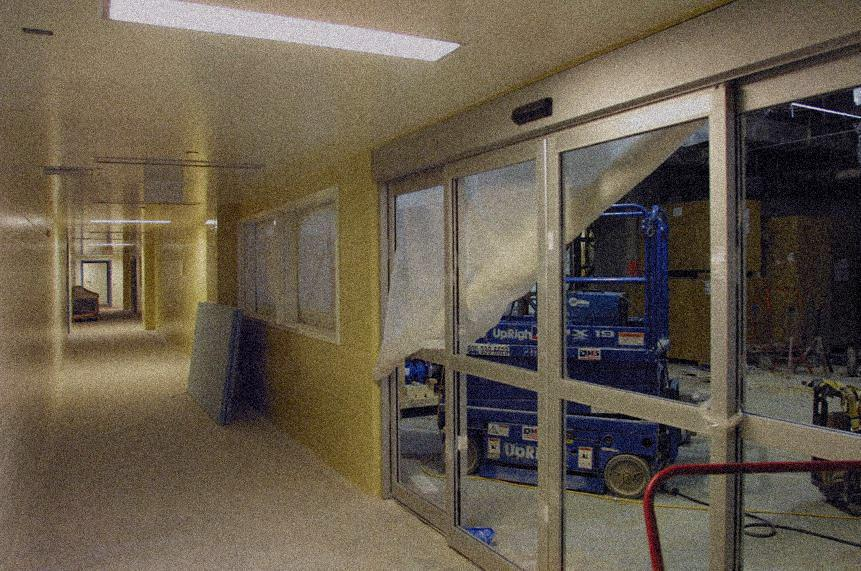Otro Obstaculo: (183, 299, 243, 424)
